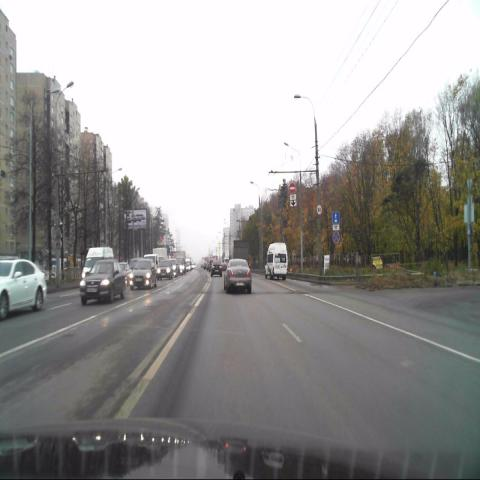3_1: (289, 183, 295, 193)
3_27: (332, 231, 340, 243)
5_14: (332, 211, 340, 223)
